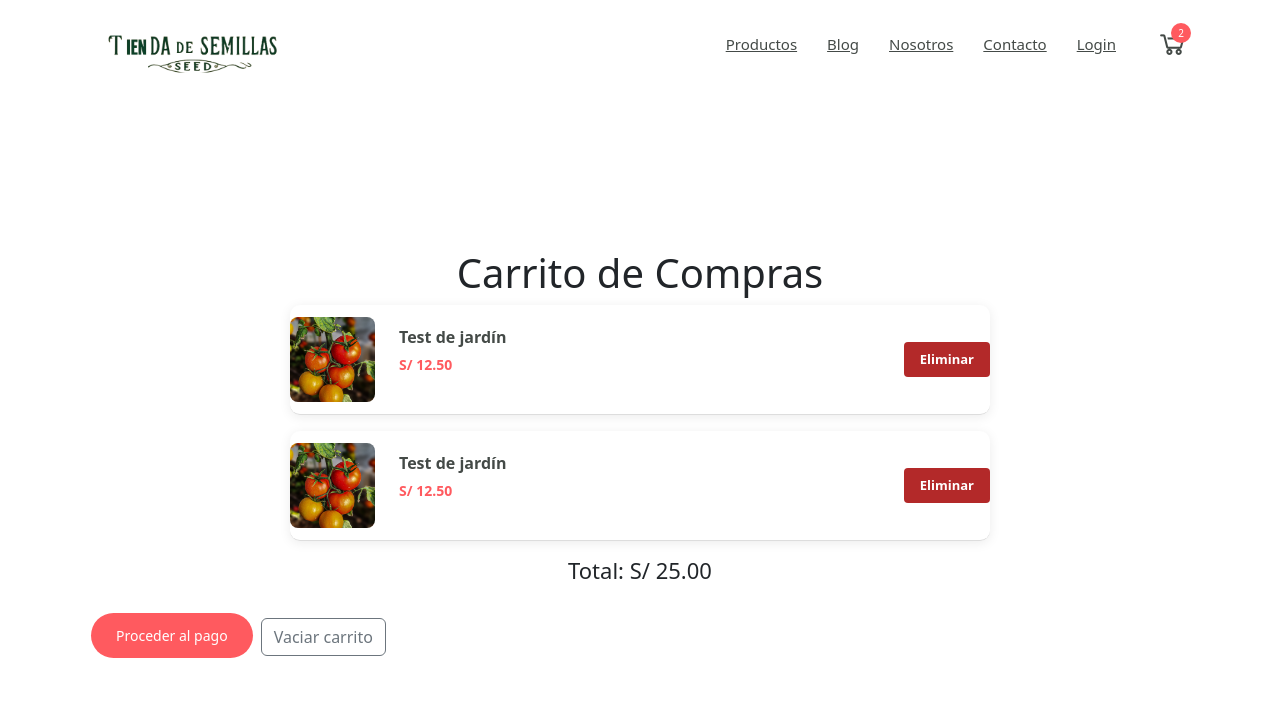
Test: Componentes de tienda › 41. Eliminar un producto recalcula total
What coordinates should you click on to do the following:
click the 1st button with class "btn-eliminar"
I would click on:
 (947, 360)
Its box is [904,342,990,377].
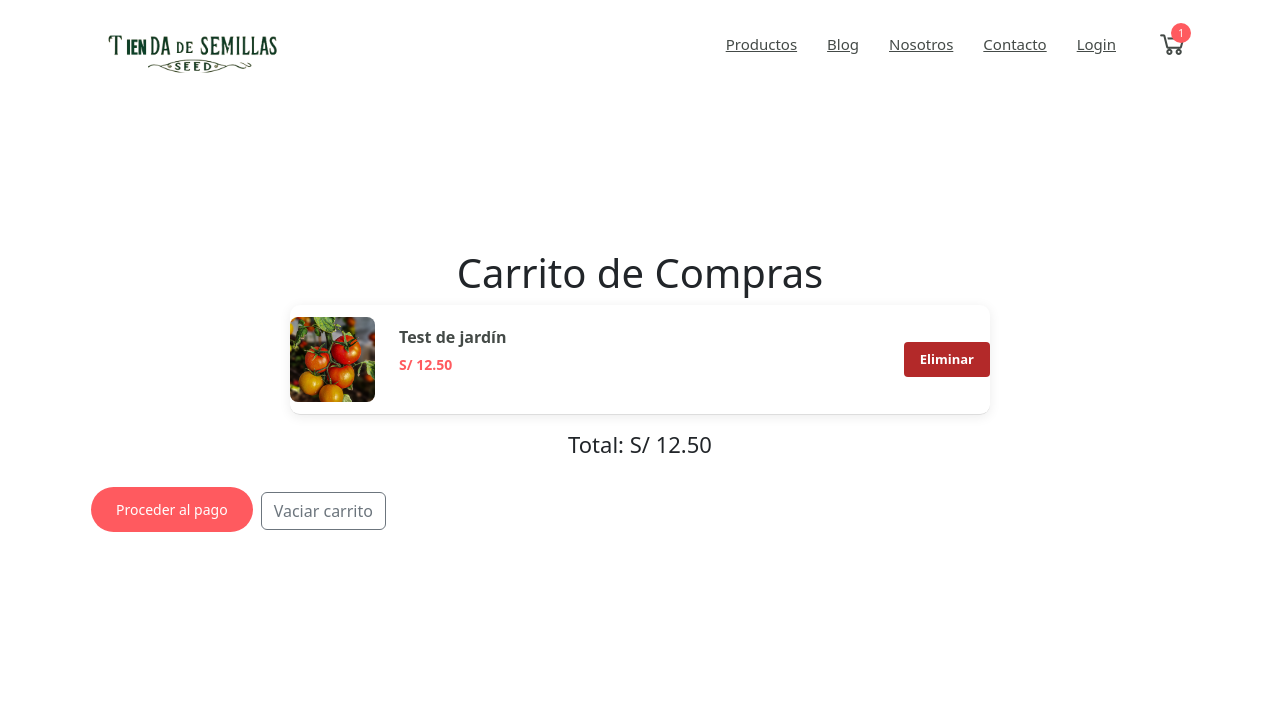
Result: the heading with id "totalCarrito" shows "12.50" at [656,429,712,459]
